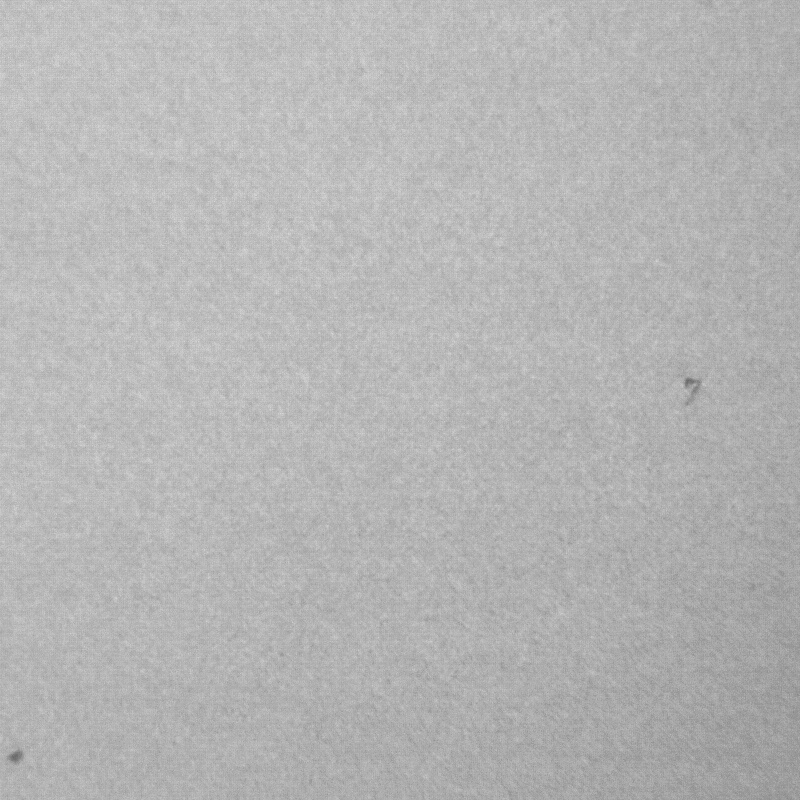defect: (676, 377, 702, 408), (7, 748, 42, 769)
